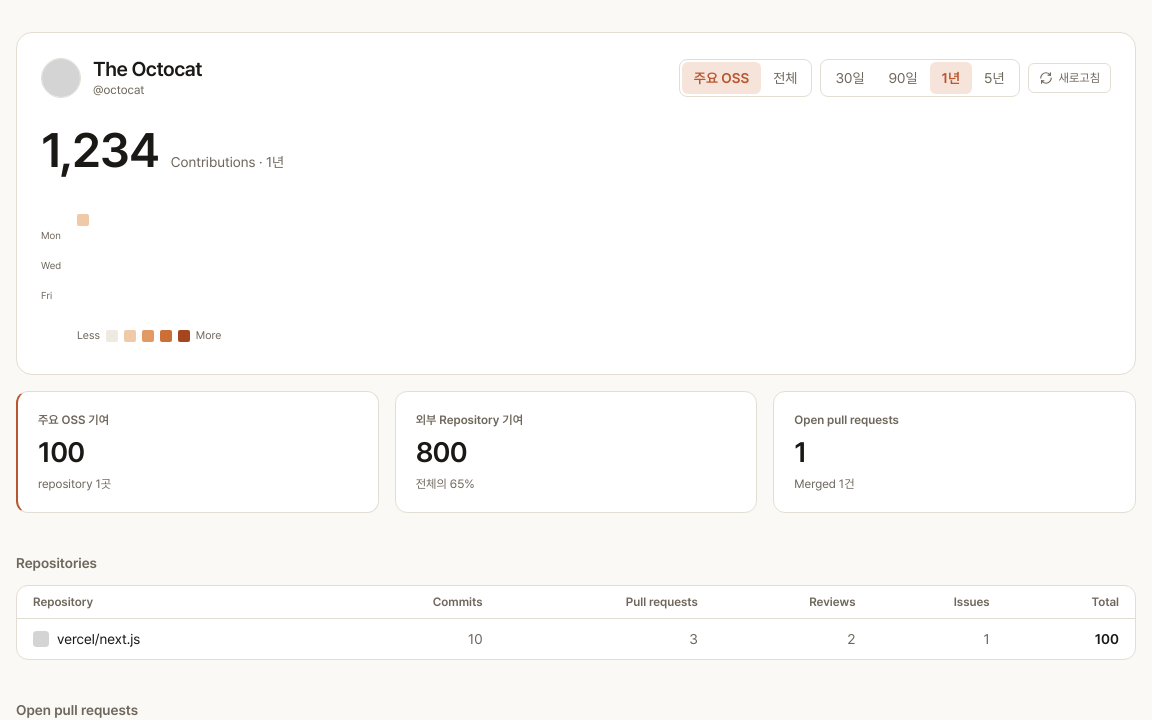
Test: 조회 조건 바꾸기 › 새 기간이 도착하면 흐림을 걷고 그 숫자로 바꾼다
What coordinates should you click on to do the following:
click the link "30일"
I would click on:
 (850, 78)
Its box is [835,70,864,86].
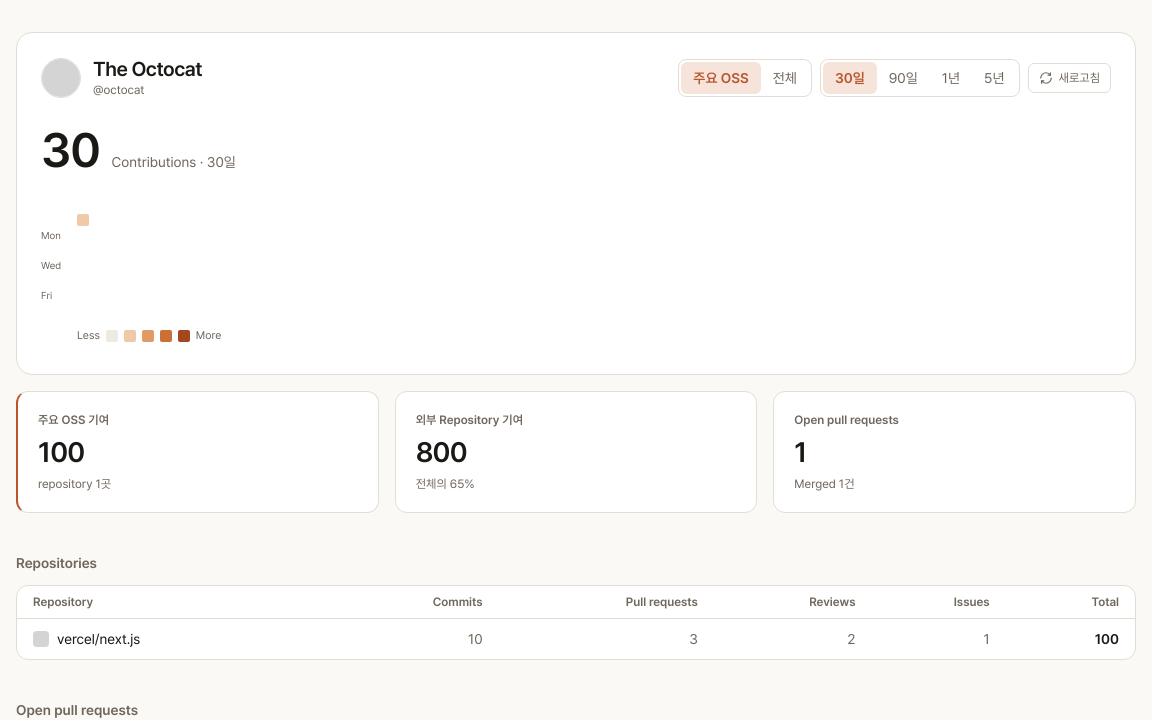
expect the text "30" is shown: met, box [41,126,100,174]
